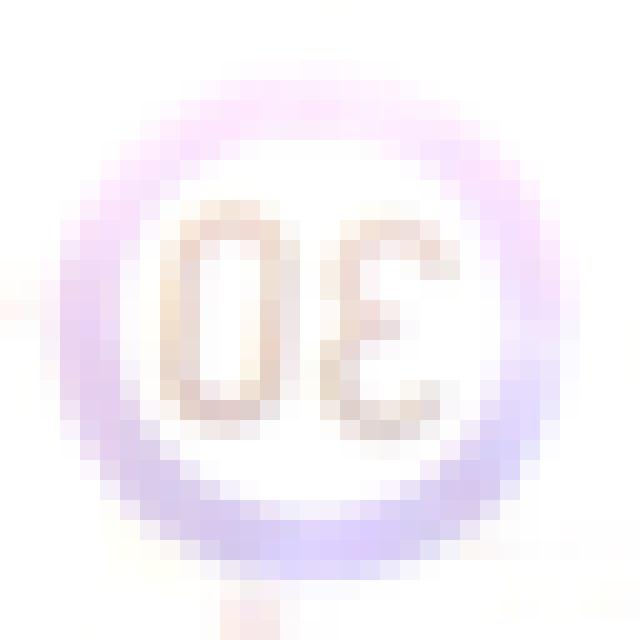SPEED LIMIT 30: (43, 67, 579, 575)
